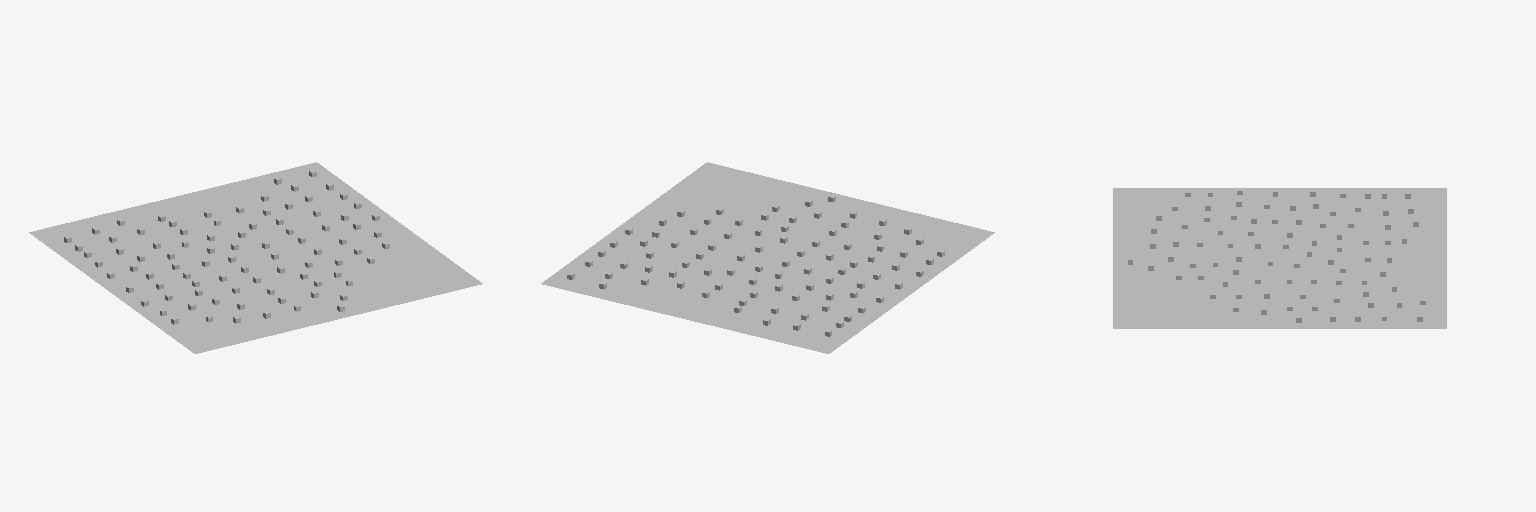
Rendered from ohio.obj.
3 renders of one model, left to right at view 1: azimuth 30°, elevation 25°; view 2: azimuth 150°, elevation 25°; view 3: azimuth 270°, elevation 25°, orthographic.
Parts seen in each view (by area): view 1: 2; view 2: 2; view 3: 2.
Boxes of the visible parts, <box> form: 2: <box>29,162,482,353</box>; 2: <box>541,162,994,353</box>; 2: <box>1113,188,1446,328</box>.
Size of the model in its own units: 4 by 0.06 by 4.